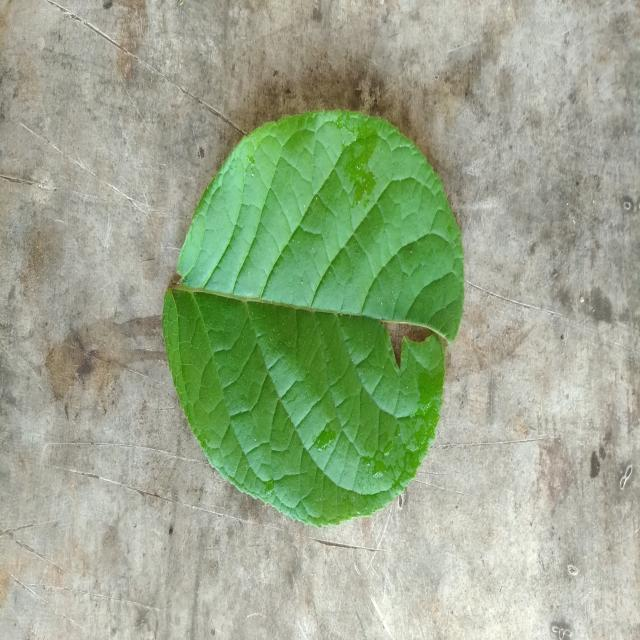padri: (162, 111, 464, 524)
